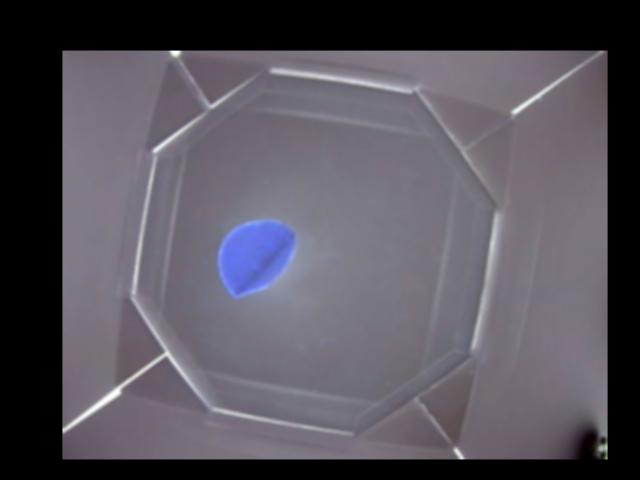Potato: (217, 218, 294, 297)
